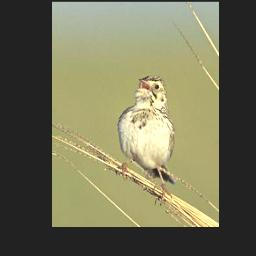Sparrow: (115, 74, 175, 207)
